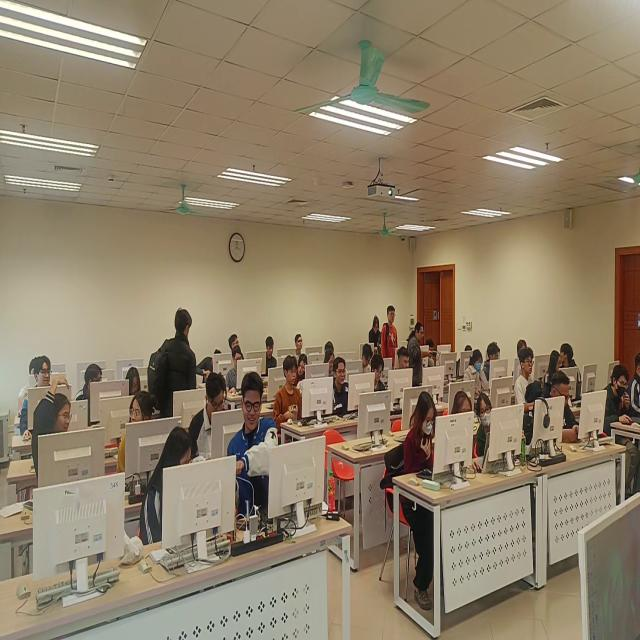raise_hand: (32, 375, 72, 484)
raise_head: (21, 357, 53, 443), (18, 356, 41, 419), (334, 357, 349, 418), (295, 332, 304, 358)
stand: (149, 306, 199, 420), (381, 306, 399, 370), (407, 323, 425, 387), (369, 314, 383, 353)
using_computer: (228, 371, 281, 533), (141, 424, 194, 549), (190, 369, 228, 464), (404, 391, 438, 477), (600, 363, 633, 445), (547, 371, 582, 446), (274, 356, 303, 425), (475, 391, 500, 460), (515, 347, 540, 410), (465, 348, 489, 395), (198, 349, 224, 388), (226, 345, 244, 395), (629, 350, 640, 422), (545, 351, 562, 397), (483, 344, 501, 379), (371, 355, 387, 394), (457, 344, 473, 381), (263, 337, 277, 377), (452, 391, 473, 417), (125, 368, 142, 396), (424, 338, 439, 369), (360, 344, 373, 376), (323, 353, 337, 380), (297, 354, 309, 381), (398, 346, 410, 370), (517, 339, 527, 358), (324, 342, 335, 355)
